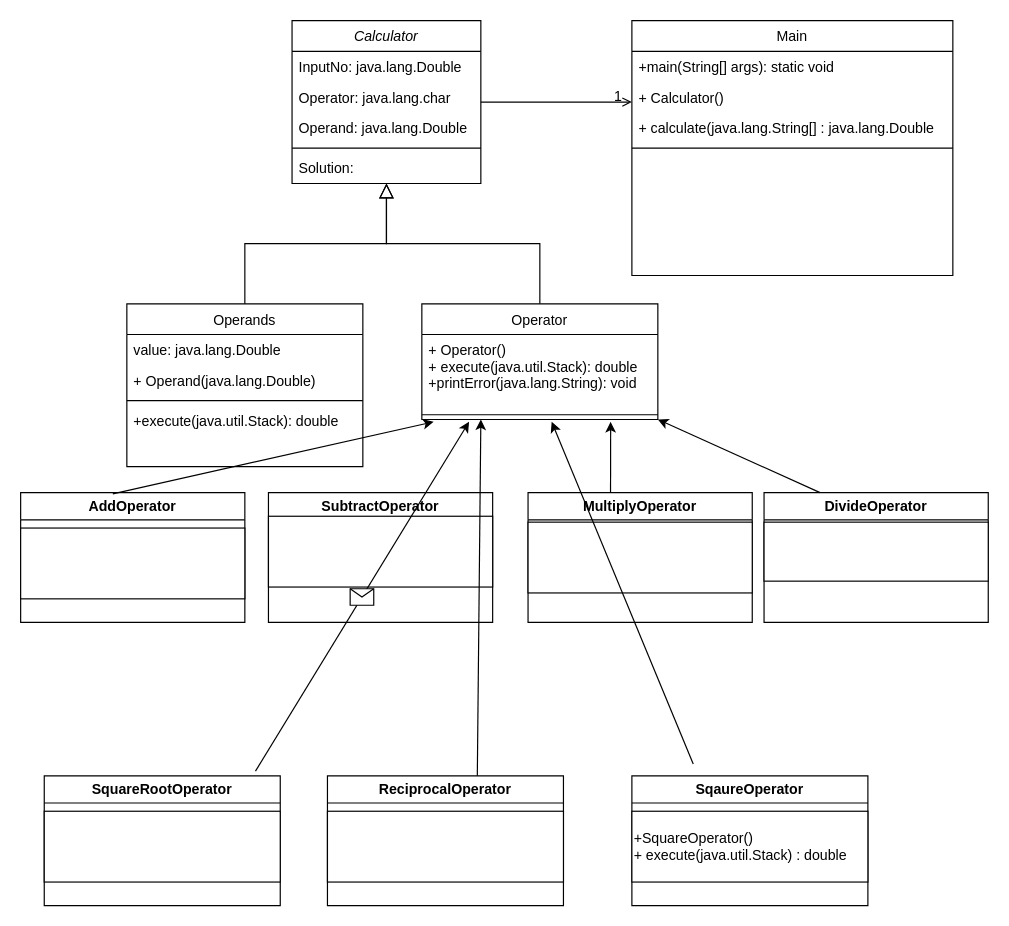
The diagram is 1009 pixels wide and 926 high, and some of its shapes have lost their labels. The shapes that lost their labels are listed below. From the top down, each one's centre as x and y in pixels, then its label:
point (132, 563): +AddOperator() + execute(java.util.Stack) : double
point (380, 551): +SubtractOperator() + execute(java.util.Stack) : double
point (639, 557): +MultiplyOperator() + execute(java.util.Stack) : double
point (875, 551): +DivideOperator() + execute(java.util.Stack) : double
point (161, 846): +SquareRootOperator() + execute(java.util.Stack) : double
point (444, 846): +ReciprocalOperator() + execute(java.util.Stack) : double
